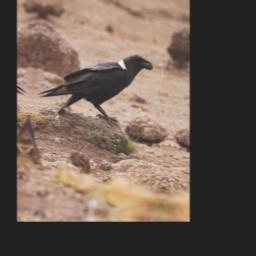Crow: (34, 39, 156, 135)
